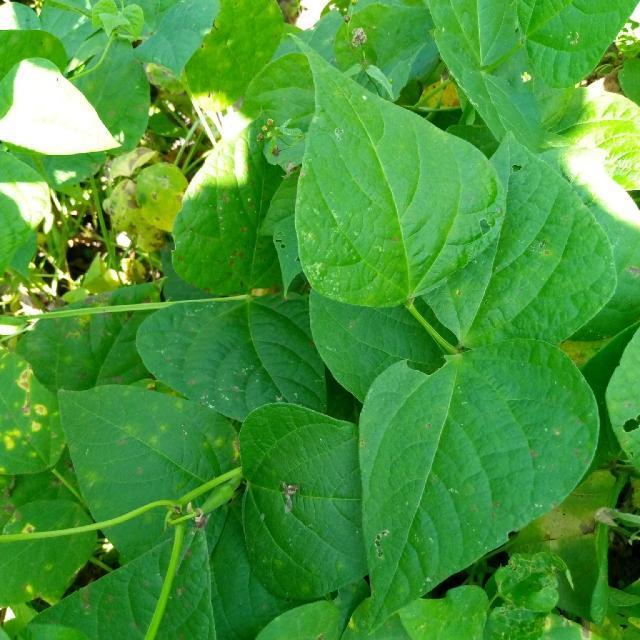sehat: (190, 127, 587, 447)
